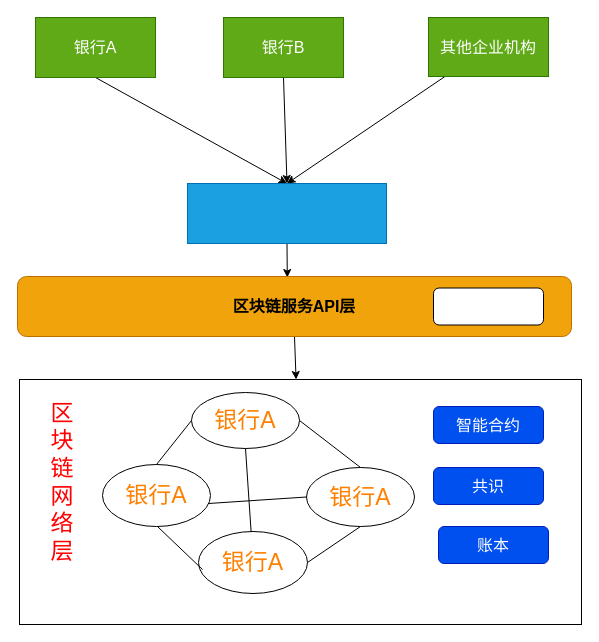
The diagram is 599 pixels wide and 642 high, and some of its shapes have lost their labels. Each missing label, with the centre of its shape:
"公积金中心系统" goes at point 286,213.
"数据上链" goes at point 488,306.
